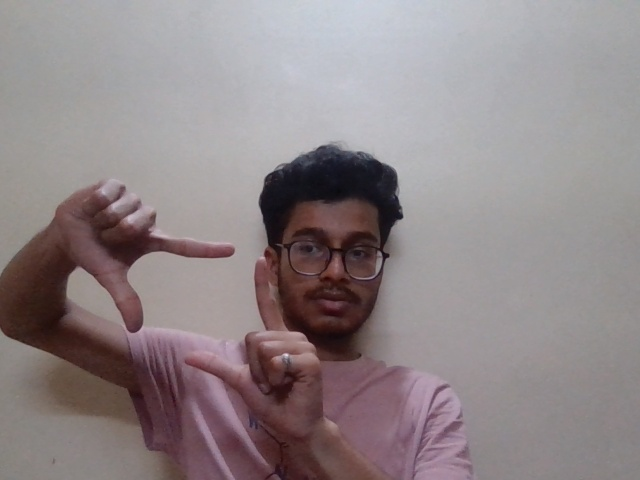video: (47, 171, 335, 416)
